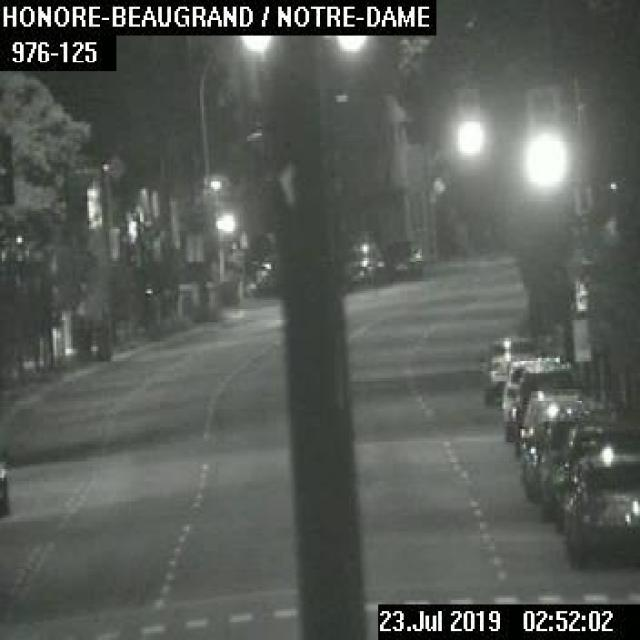vehicle: (561, 405, 638, 524), (563, 452, 638, 560), (510, 362, 570, 442), (502, 355, 558, 432), (479, 336, 539, 402), (344, 241, 391, 293), (0, 453, 13, 522)
